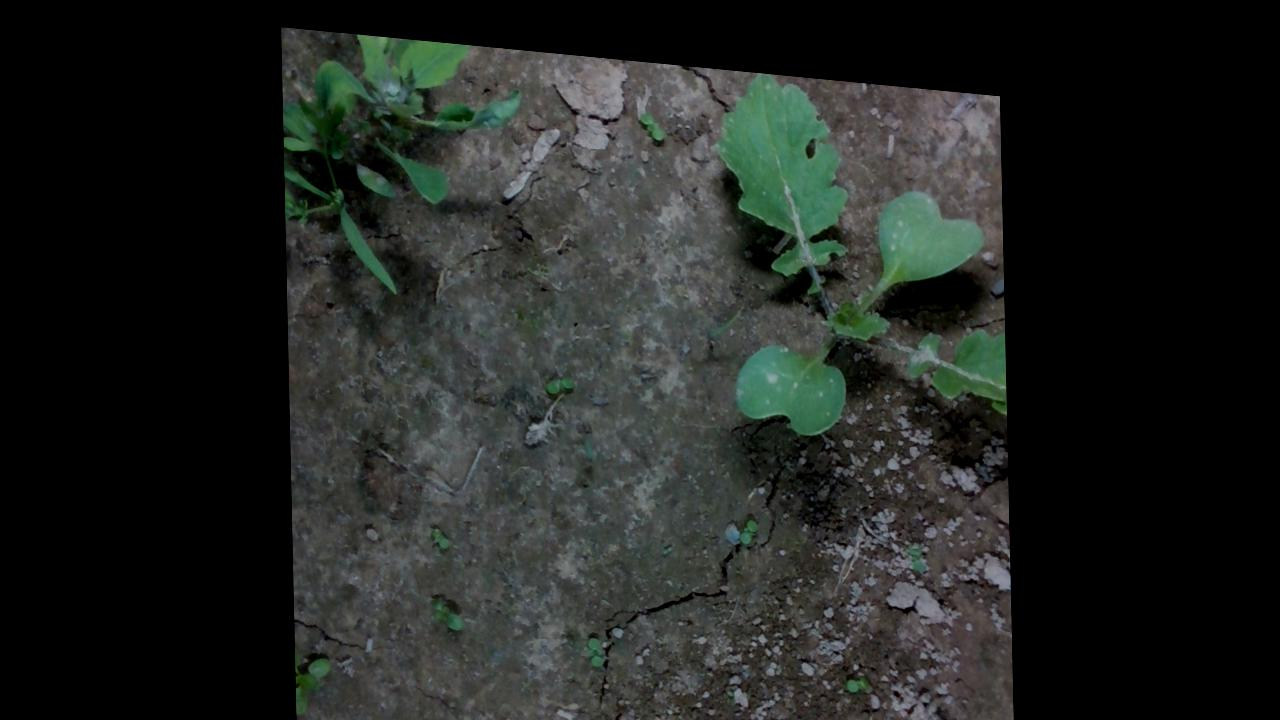weed: (569, 624, 609, 660), (540, 357, 578, 391), (640, 94, 669, 138), (735, 500, 766, 537), (835, 656, 869, 684), (430, 517, 456, 548)
